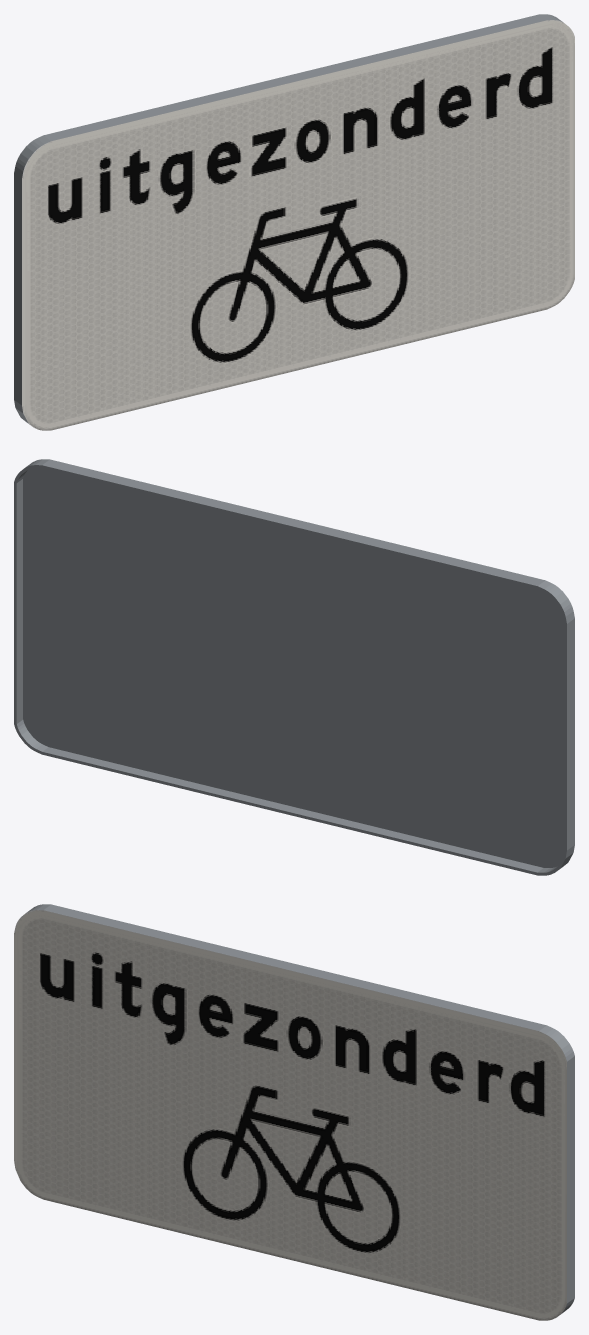
3 renders of one model, top to bottom at view 1: azimuth 30°, elevation 25°; view 2: azimuth 150°, elevation 25°; view 3: azimuth 330°, elevation 25°, orthographic.
Parts seen in each view (by area): view 1: cat_2ec6d1e7afa8b2ac; view 2: cat_2ec6d1e7afa8b2ac; view 3: cat_2ec6d1e7afa8b2ac.
Boxes of the visible parts, x1,y1,x2,y2 form: cat_2ec6d1e7afa8b2ac: (14,14,574,430); cat_2ec6d1e7afa8b2ac: (14,459,574,875); cat_2ec6d1e7afa8b2ac: (14,904,574,1320).
Size of the model in its own units: 0.6 by 0.015 by 0.3.
2 materials, 1 textured.
